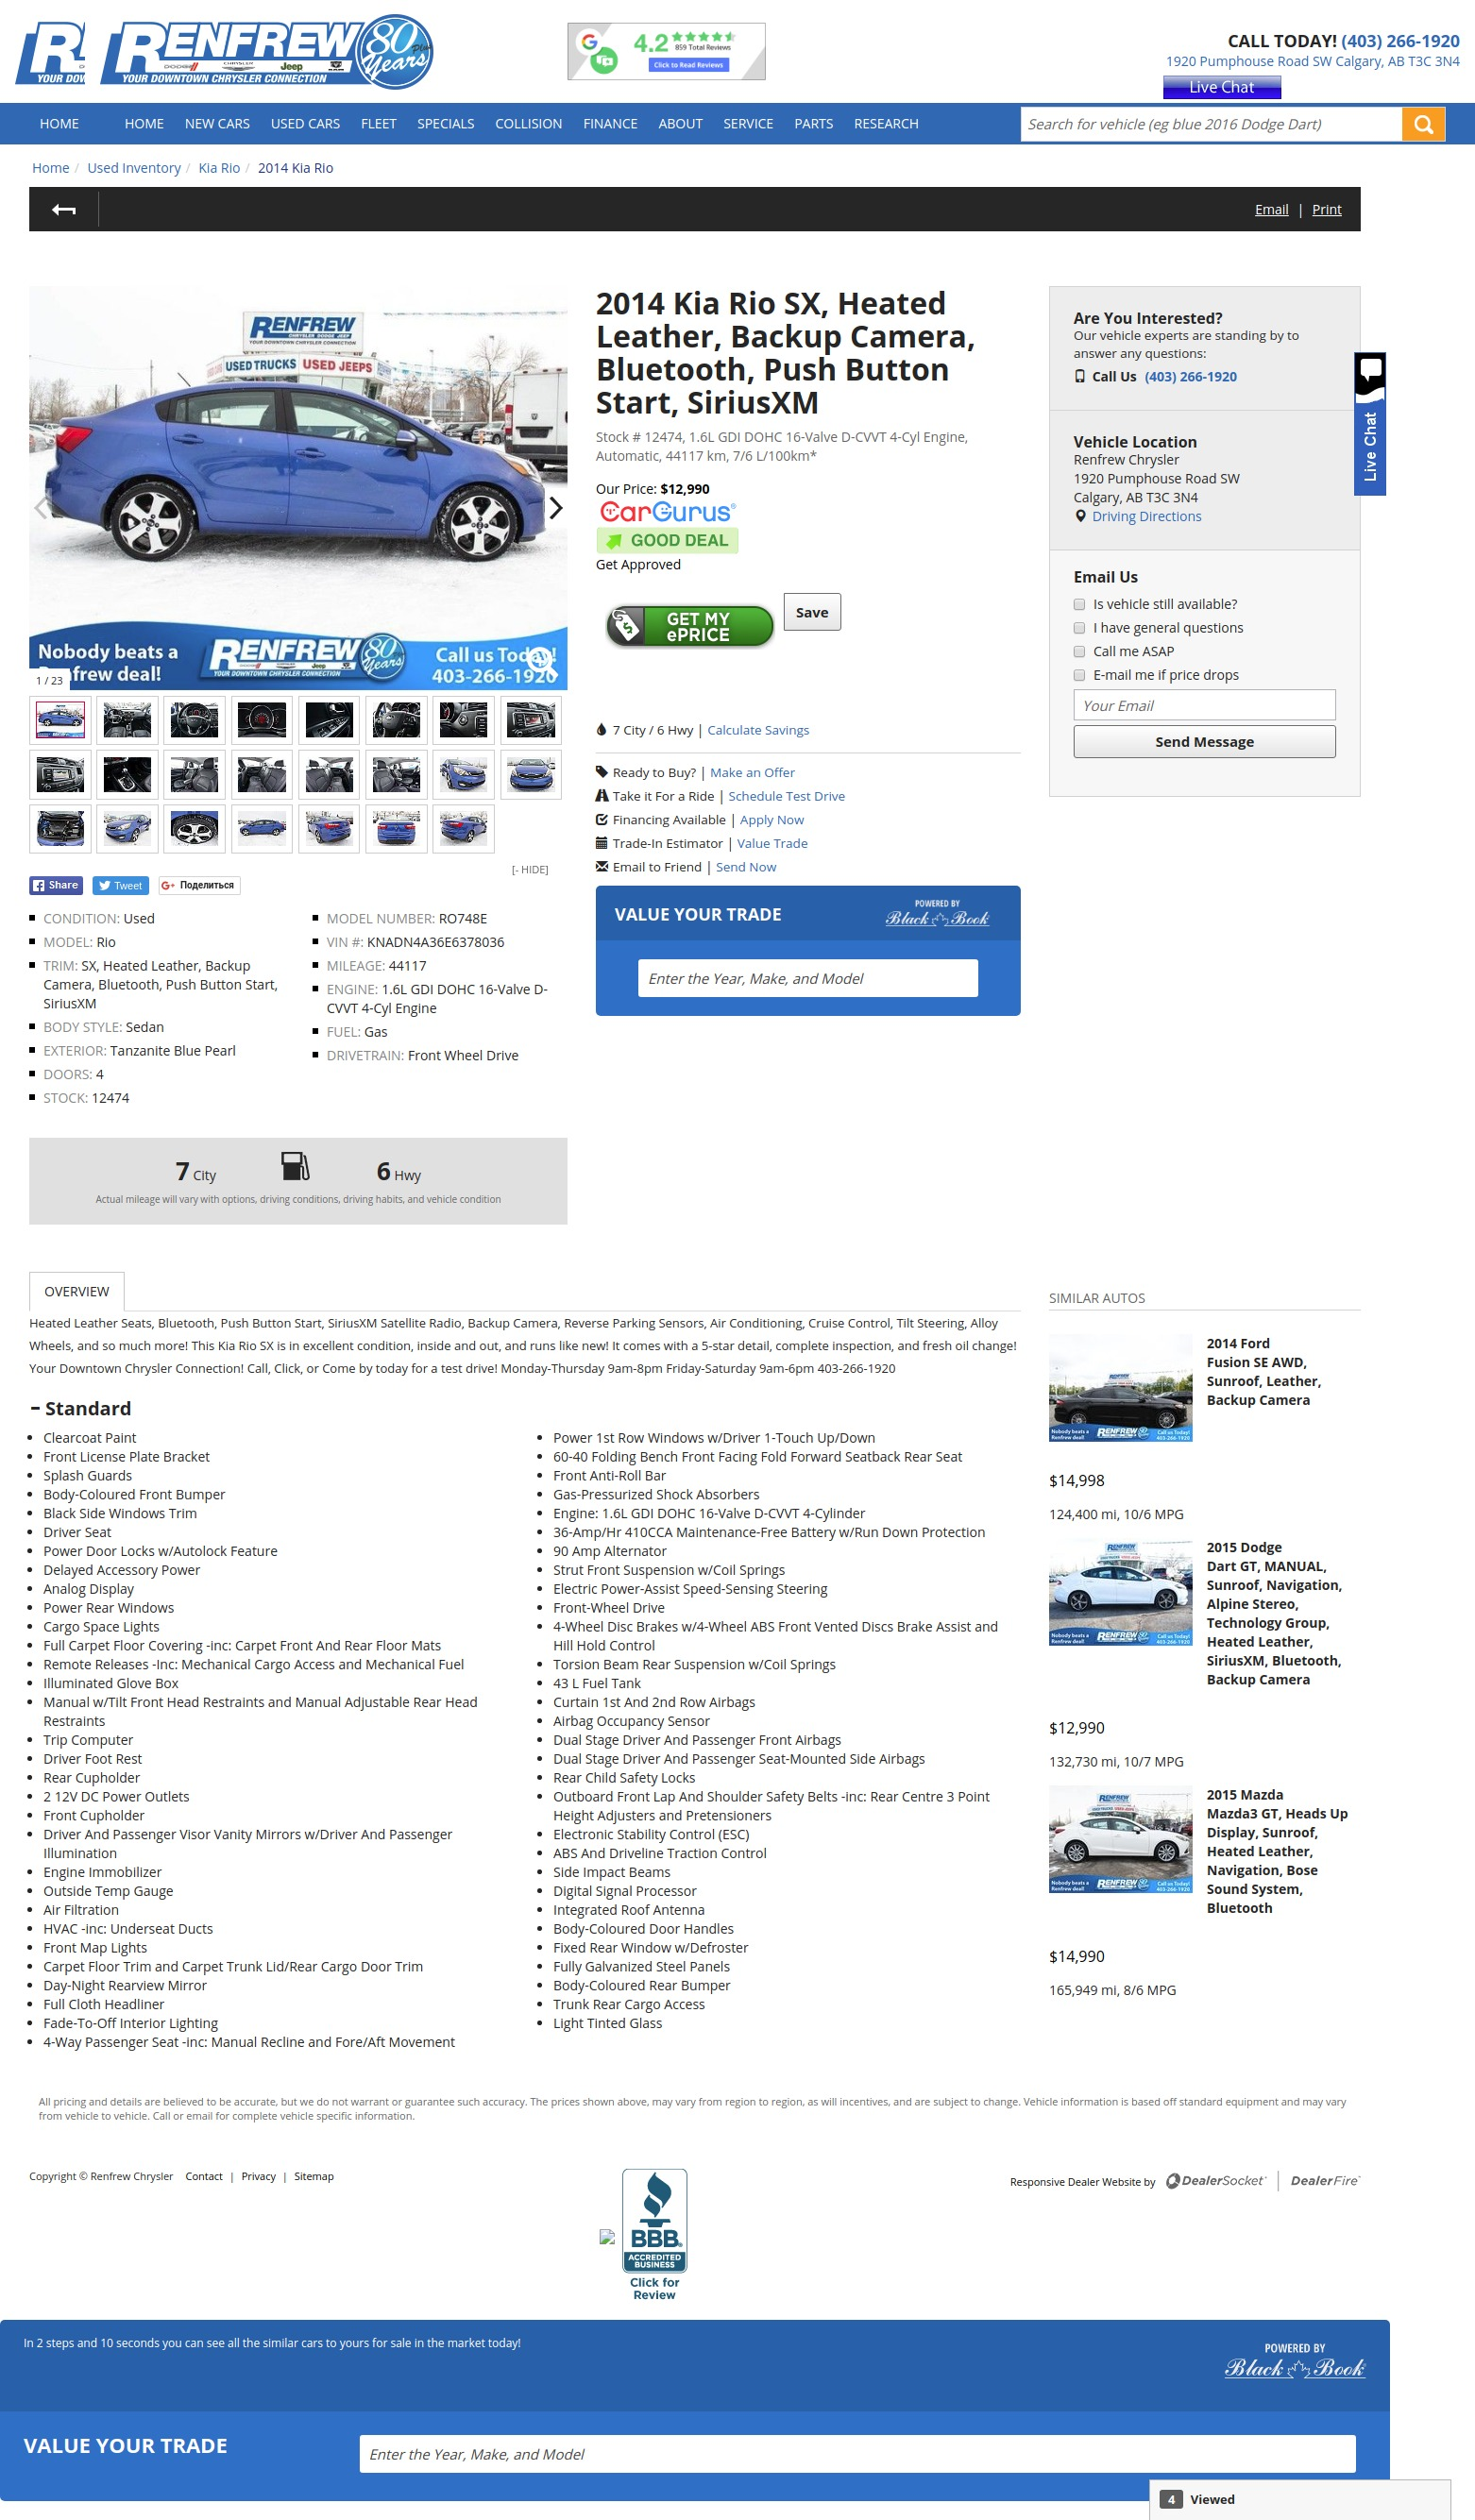car: (550, 495, 565, 519)
